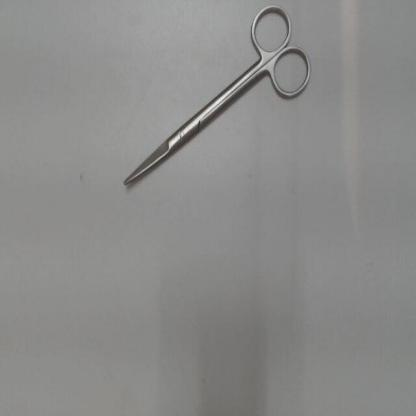Curved Mayo Scissors: (116, 2, 316, 195)
